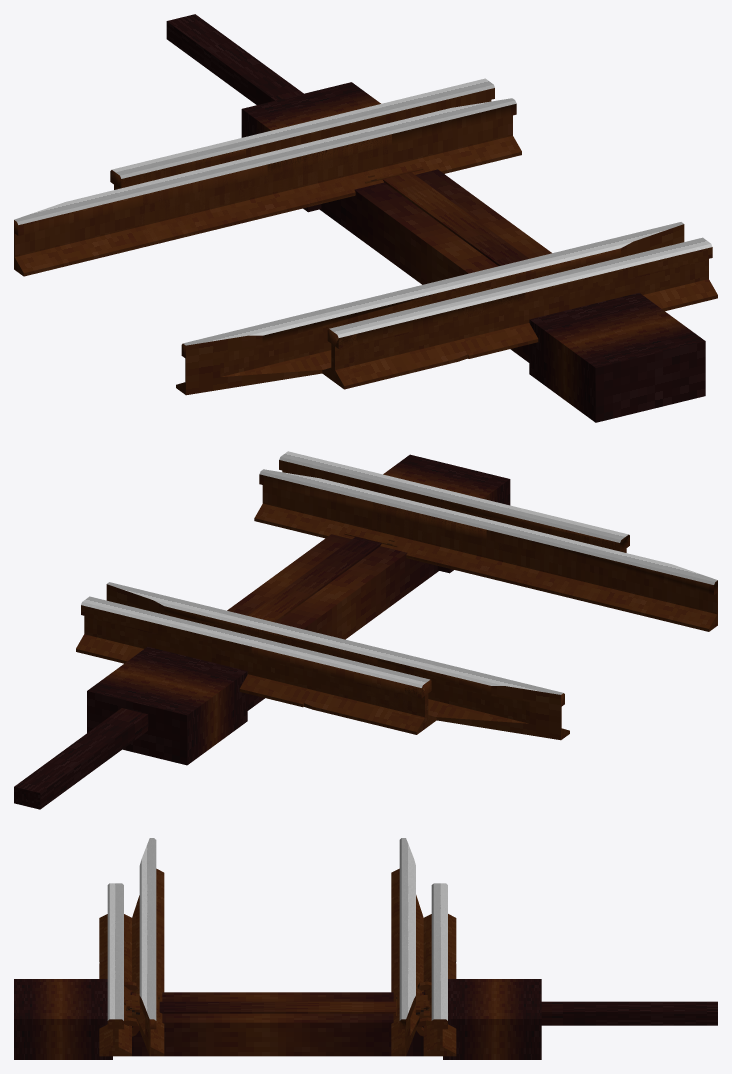
File: track_1m.obj
The picture shows the model from 3 angles, top to bottom: view 1: azimuth 30°, elevation 25°; view 2: azimuth 150°, elevation 25°; view 3: azimuth 270°, elevation 25°; orthographic projection. The views are drawn at different scales.
Visible parts, largest first — view 1: CHECK_RAIL_RIGHT, HEEL_BLOCK, RAIL_BASE, CHECK_RAIL_LEFT, POINT_LEFT, STRETCHER_BAR, WING_RAIL_RIGHT, RAIL_LEFT, CHECK_RAIL_RIGHT.001, CHECK_RAIL_LEFT.001, RAIL_RIGHT.001, RAIL_LEFT.001 (+9 smaller); view 2: CHECK_RAIL_LEFT, HEEL_BLOCK, RAIL_BASE, POINT_RIGHT, CHECK_RAIL_RIGHT, STRETCHER_BAR, RAIL_RIGHT, CHECK_RAIL_LEFT.001, CHECK_RAIL_RIGHT.001, POINT_LEFT.001, POINT_RIGHT.001, RAIL_RIGHT.001 (+10 smaller); view 3: HEEL_BLOCK, RAIL_BASE, STRETCHER_BAR, CHECK_RAIL_LEFT, CHECK_RAIL_RIGHT, CHECK_RAIL_LEFT.001, CHECK_RAIL_RIGHT.001, RAIL_RIGHT, POINT_LEFT.001, RAIL_LEFT, POINT_RIGHT.001, WING_RAIL_LEFT.001 (+10 smaller).
Boxes of the visible parts, x1,y1,x2,y2 form: CHECK_RAIL_RIGHT: [14, 103, 521, 276]; HEEL_BLOCK: [241, 82, 705, 422]; RAIL_BASE: [319, 168, 551, 362]; CHECK_RAIL_LEFT: [176, 224, 684, 395]; POINT_LEFT: [322, 292, 569, 389]; STRETCHER_BAR: [166, 14, 529, 265]; WING_RAIL_RIGHT: [139, 134, 392, 241]; RAIL_LEFT: [463, 247, 717, 358]; CHECK_RAIL_RIGHT.001: [14, 98, 516, 224]; CHECK_RAIL_LEFT.001: [183, 222, 683, 345]; RAIL_RIGHT.001: [240, 78, 494, 148]; RAIL_LEFT.001: [455, 237, 712, 307]; CHECK_RAIL_LEFT: [254, 474, 717, 631]; HEEL_BLOCK: [87, 454, 510, 765]; RAIL_BASE: [227, 533, 438, 710]; POINT_RIGHT: [210, 646, 436, 734]; CHECK_RAIL_RIGHT: [106, 584, 569, 740]; STRETCHER_BAR: [14, 537, 381, 809]; RAIL_RIGHT: [76, 605, 303, 707]; CHECK_RAIL_LEFT.001: [259, 469, 717, 584]; CHECK_RAIL_RIGHT.001: [107, 582, 563, 694]; POINT_LEFT.001: [397, 481, 628, 542]; POINT_RIGHT.001: [199, 627, 429, 687]; RAIL_RIGHT.001: [81, 596, 316, 656]; HEEL_BLOCK: [14, 979, 541, 1059]; RAIL_BASE: [125, 992, 429, 1056]; STRETCHER_BAR: [125, 1000, 717, 1025]; CHECK_RAIL_LEFT: [132, 868, 164, 1056]; CHECK_RAIL_RIGHT: [391, 868, 423, 1056]; CHECK_RAIL_LEFT.001: [139, 838, 156, 1020]; CHECK_RAIL_RIGHT.001: [399, 838, 415, 1020]; RAIL_RIGHT: [423, 963, 456, 1056]; POINT_LEFT.001: [107, 883, 123, 973]; RAIL_LEFT: [99, 963, 131, 1056]; POINT_RIGHT.001: [431, 883, 447, 973]; WING_RAIL_LEFT.001: [139, 884, 156, 974].
Bounding box in the file's own units: 2 × 0.3457 × 3.28.
